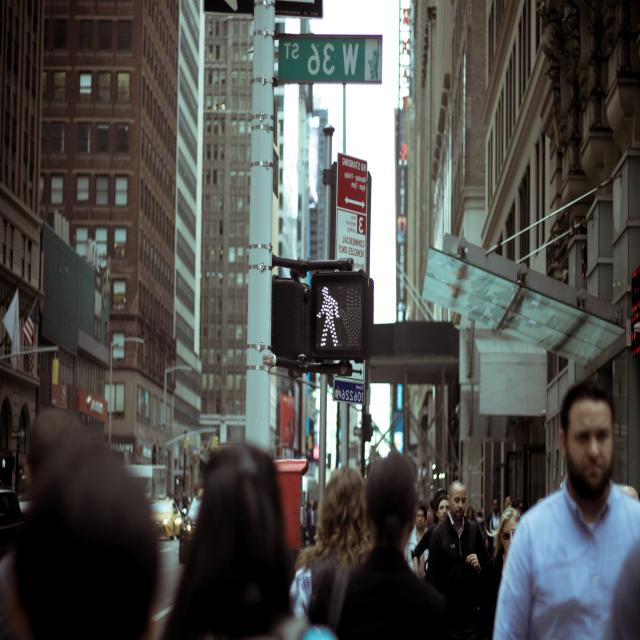adult: (494, 380, 638, 640), (415, 480, 487, 640)
